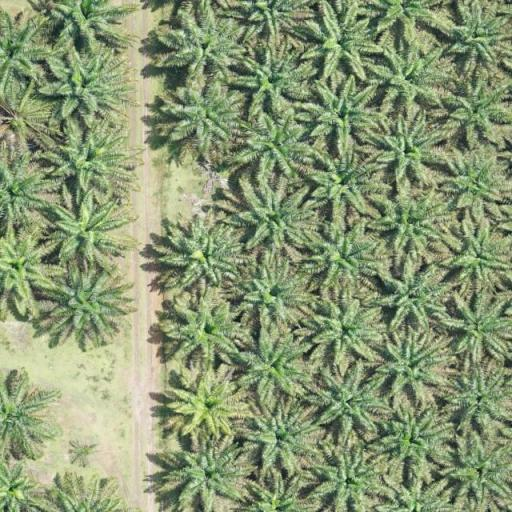Ganoderma: (178, 377, 236, 430)
